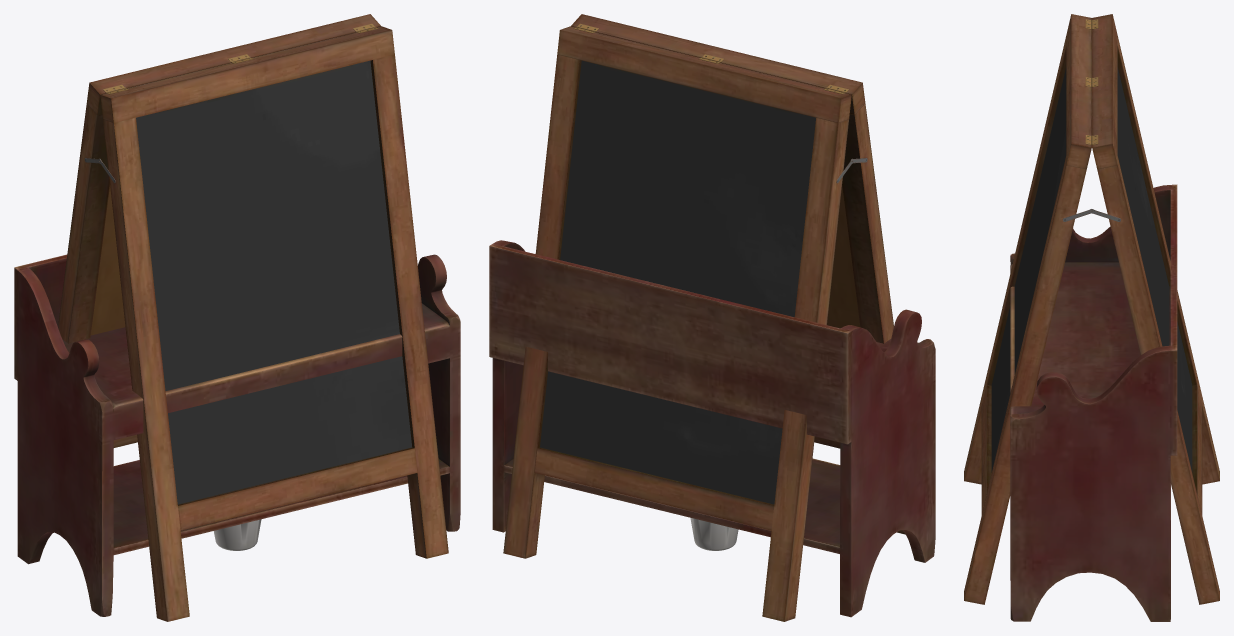
Rendered from hall.glb.
3 views of the same model, side by side, from view 1: azimuth 30°, elevation 25°; view 2: azimuth 150°, elevation 25°; view 3: azimuth 270°, elevation 25° (orthographic). The views are drawn at different scales.
Parts seen in each view (by area): view 1: standing_chalkboard_01, painted_wooden_bench, potted_plant_04_pot; view 2: standing_chalkboard_01, painted_wooden_bench, potted_plant_04_pot; view 3: painted_wooden_bench, standing_chalkboard_01.
Part boxes in pixels (x1=…): standing_chalkboard_01: x1=53, y1=14, x2=448, y2=621; painted_wooden_bench: x1=14, y1=254, x2=460, y2=616; potted_plant_04_pot: x1=213, y1=519, x2=261, y2=550; standing_chalkboard_01: x1=503, y1=14, x2=905, y2=621; painted_wooden_bench: x1=489, y1=240, x2=935, y2=617; potted_plant_04_pot: x1=690, y1=517, x2=738, y2=550; painted_wooden_bench: x1=1010, y1=184, x2=1177, y2=621; standing_chalkboard_01: x1=964, y1=14, x2=1219, y2=604.
Bounding box in the file's own units: 1.16 × 1.51 × 0.7587.
Materials: 4 (4 with a texture image).
